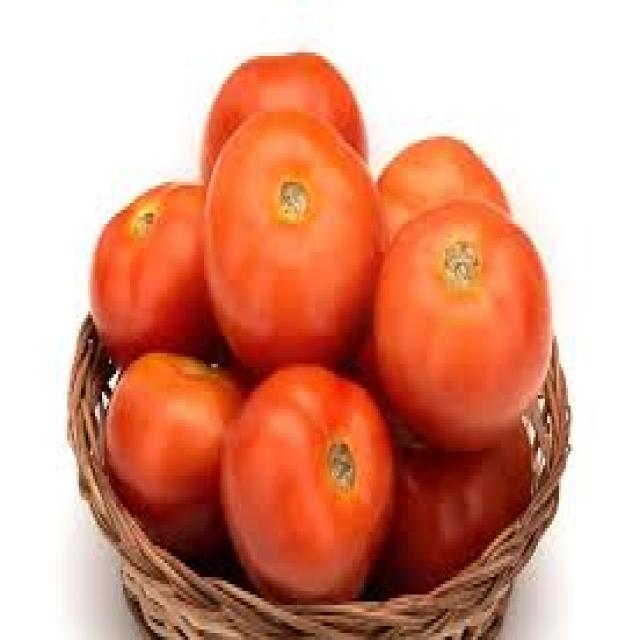Fresh_tomato: (393, 178, 553, 454), (209, 124, 378, 355), (220, 380, 418, 575), (92, 154, 225, 371), (112, 349, 231, 563)
